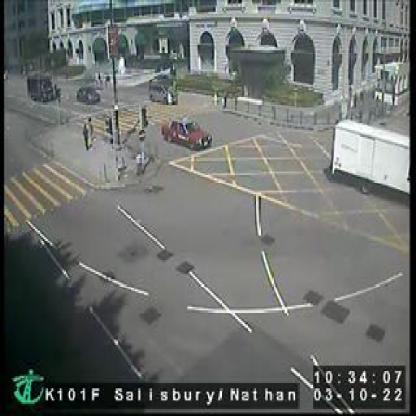Car: (160, 114, 210, 148), (148, 80, 176, 104), (75, 87, 99, 104)
Truck: (26, 73, 52, 104)
